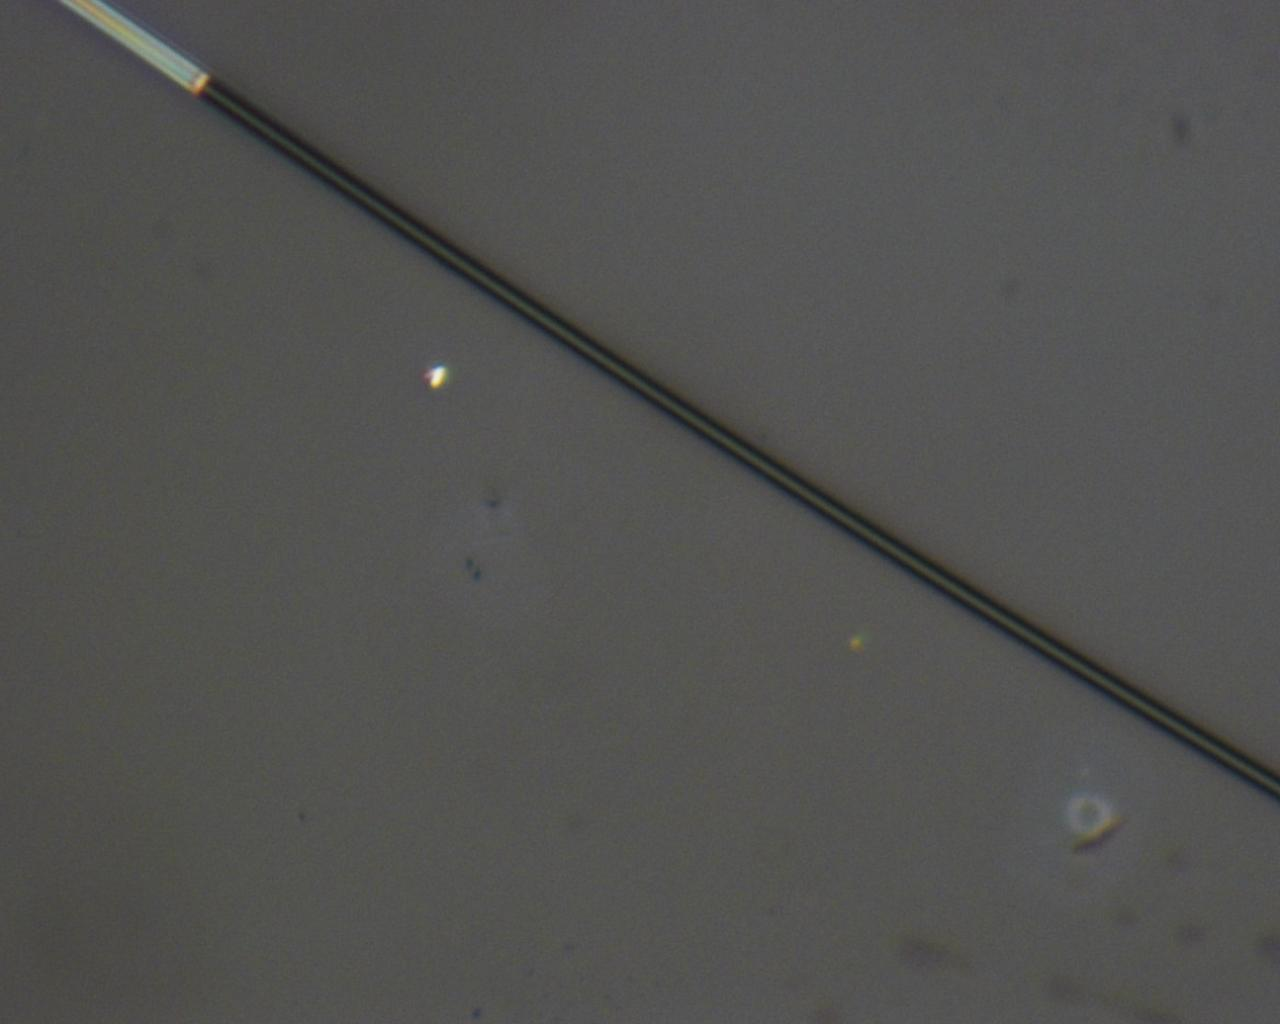fiber: (127, 350, 1151, 653)
